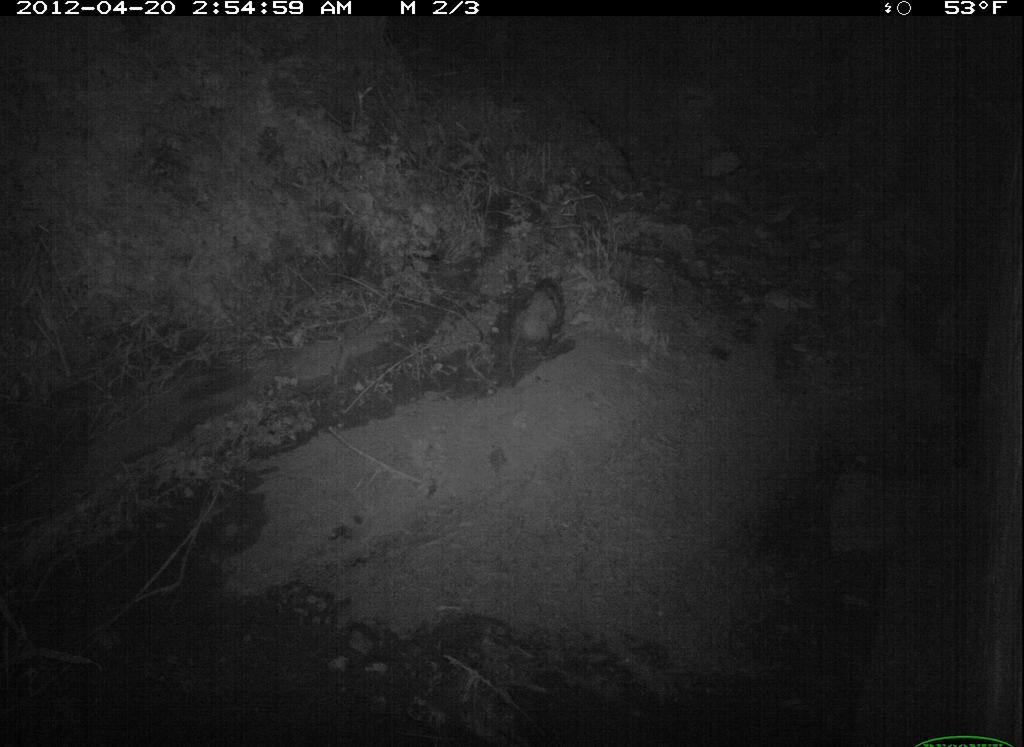opossum: (478, 267, 588, 401)
